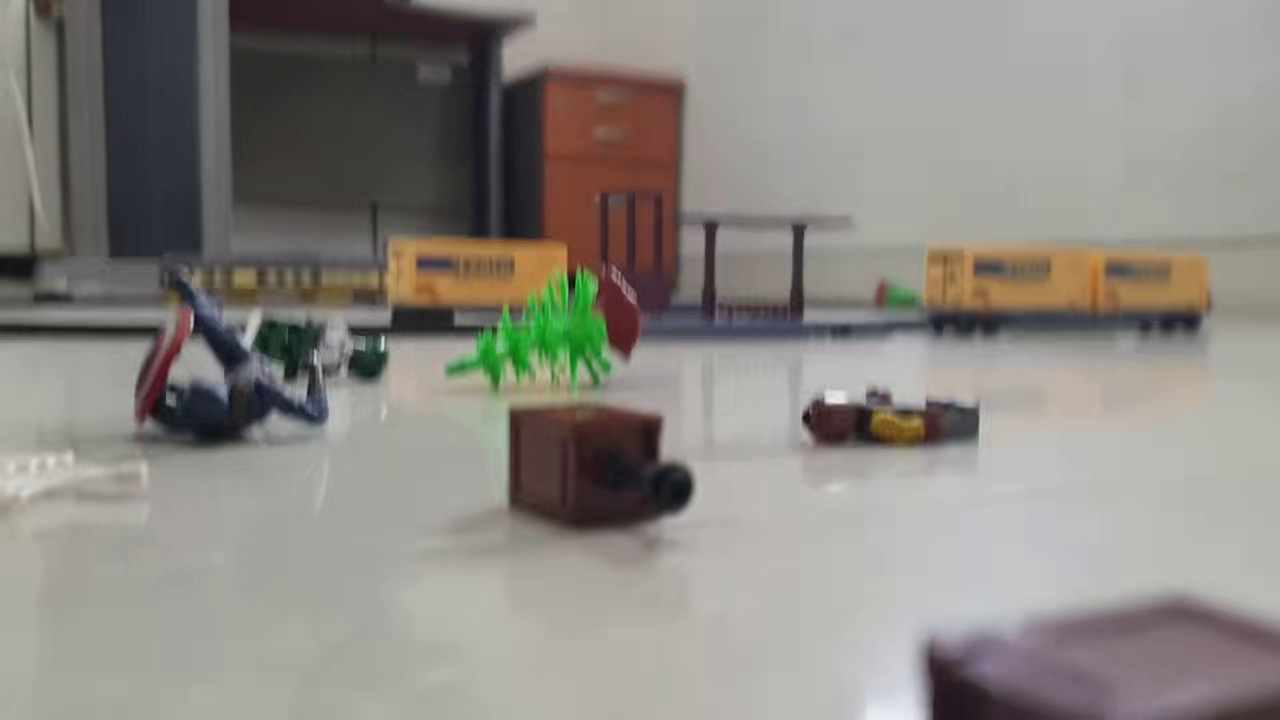box: (924, 586, 1278, 720), (503, 399, 694, 537)
people: (133, 259, 335, 446), (236, 306, 395, 389), (799, 386, 983, 453)
tree: (441, 262, 641, 396), (869, 279, 928, 314)
web: (1, 448, 152, 520)
